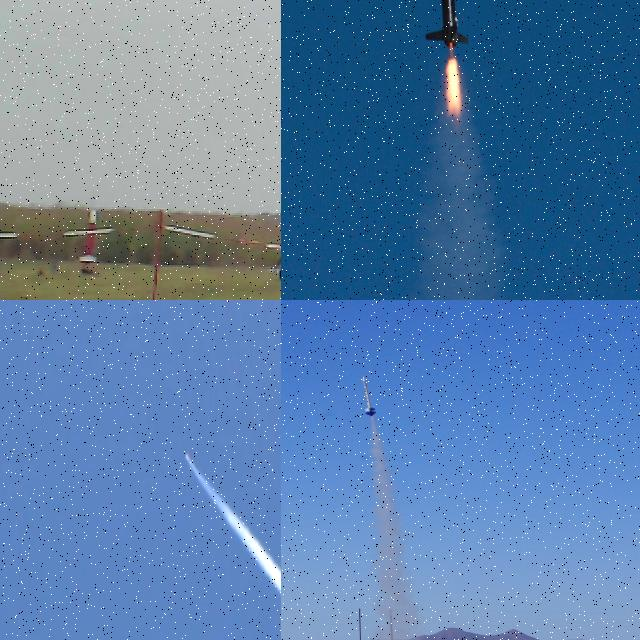Rocket: (423, 0, 470, 49), (78, 209, 99, 262), (362, 376, 376, 417), (186, 452, 191, 463)
